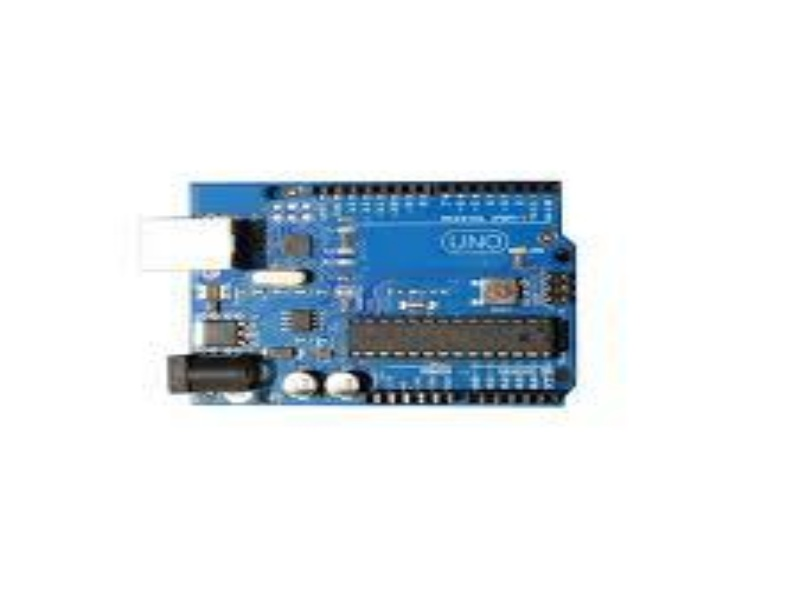uno: (140, 168, 578, 415)
